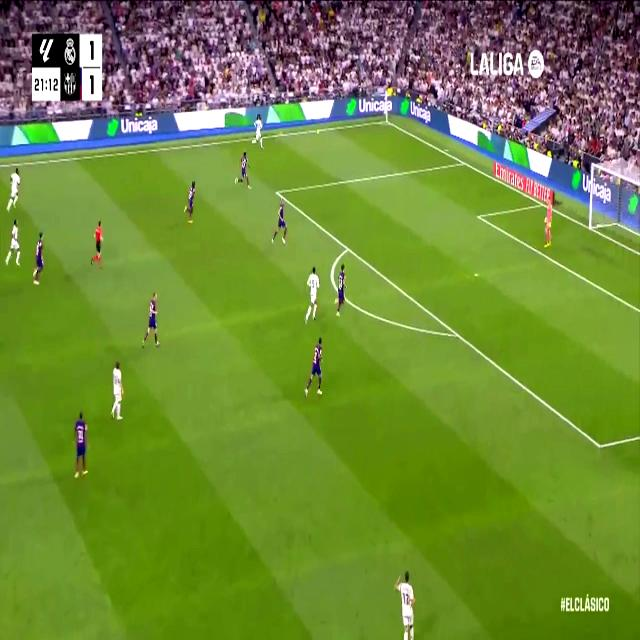bigarea_bottom_inner: (594, 432, 606, 459)
bigarea_top_inner: (274, 184, 280, 199)
bigarea_top_outter: (459, 154, 467, 168)
bottom_arc_area_intersection: (451, 323, 462, 344)
corner: (381, 115, 391, 127)
smallarea_top_inner: (473, 207, 482, 224)
top_arc_area_intersection: (344, 238, 352, 256)
